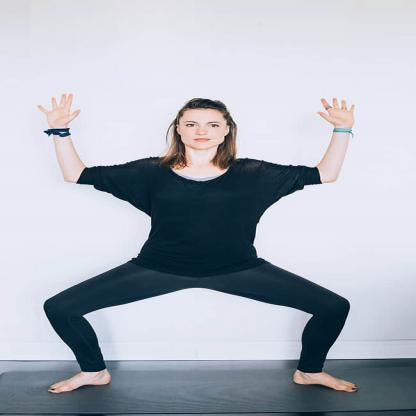godness: (24, 87, 379, 401)
